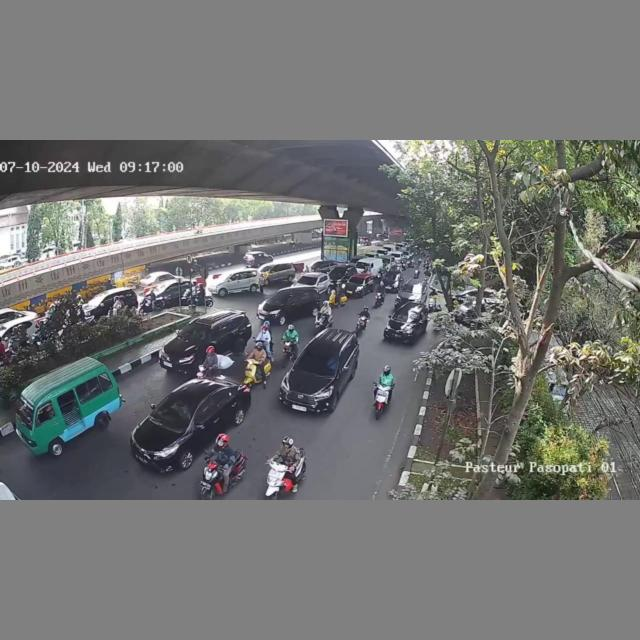windshield: (153, 394, 199, 431), (292, 347, 342, 376), (178, 321, 212, 340), (394, 307, 419, 324), (267, 291, 291, 304)
